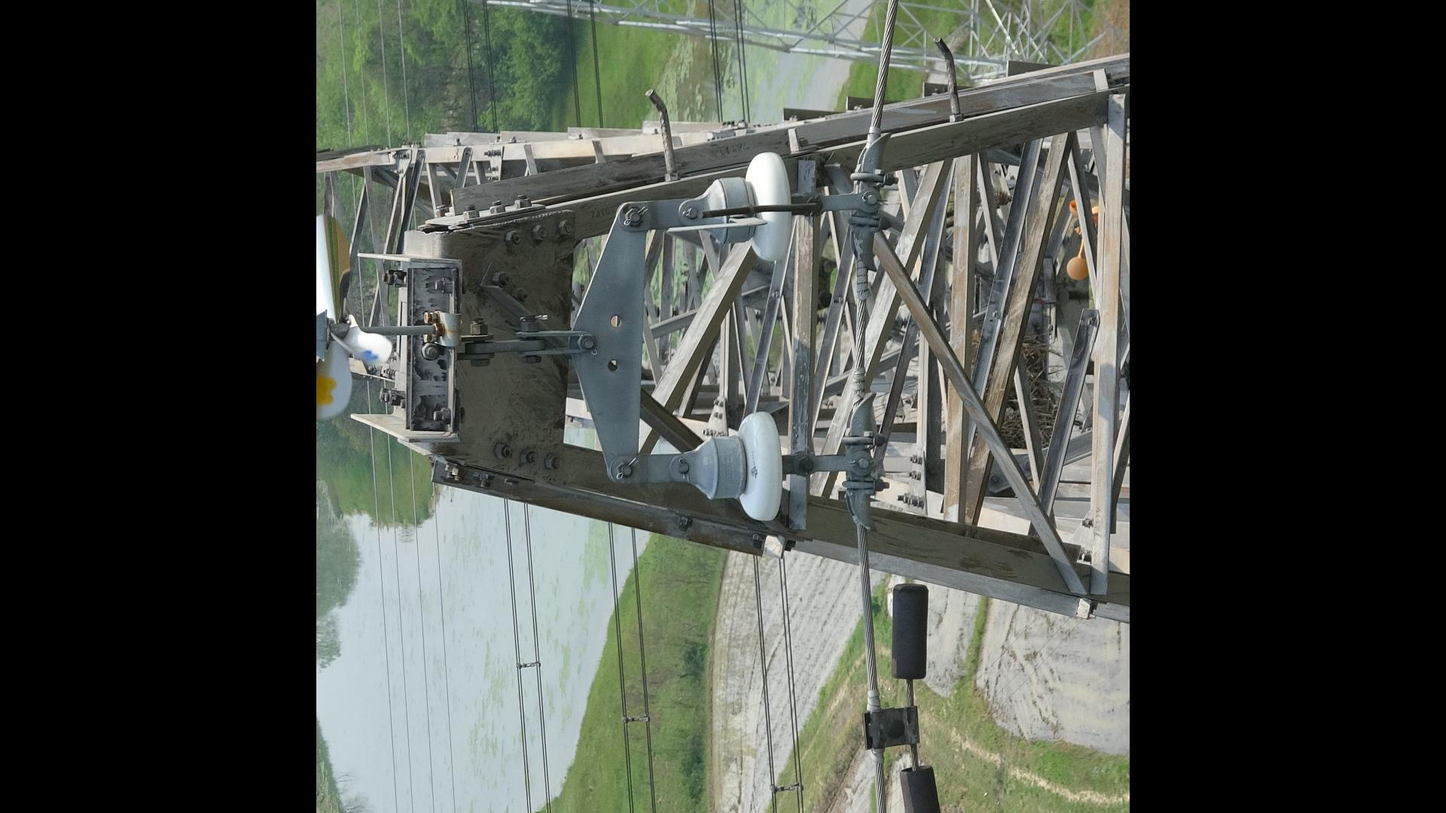damper: (849, 574, 949, 813)
nest: (996, 318, 1060, 452)
